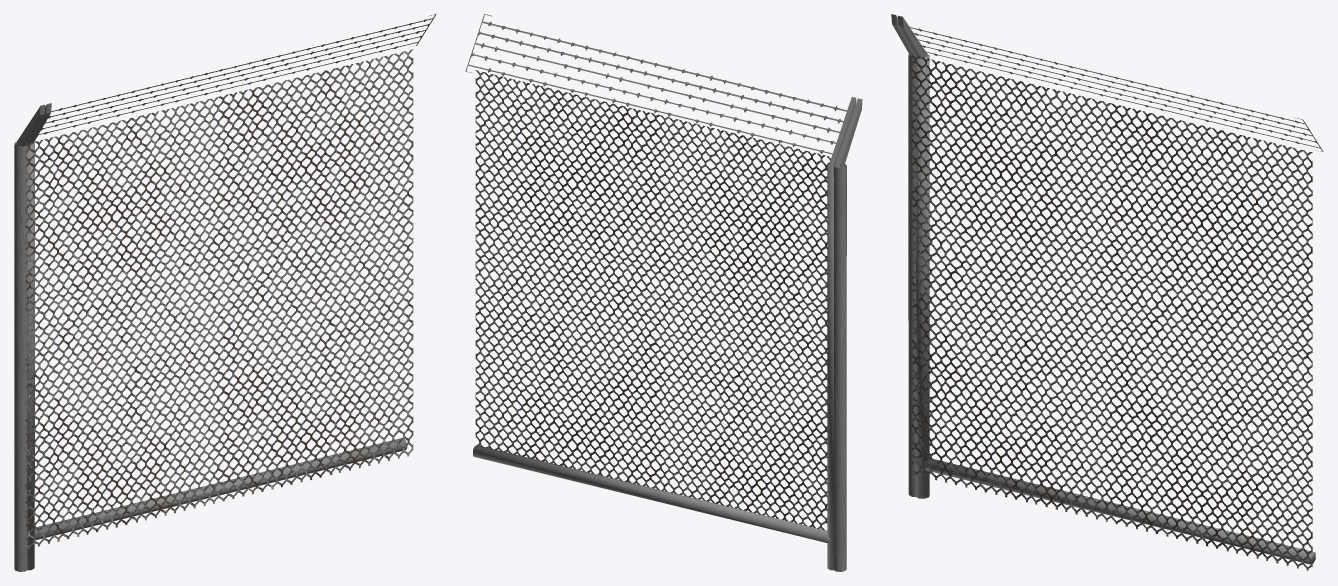
Rendered from police_fence.glb.
The picture shows the model from 3 angles, left to right: view 1: azimuth 30°, elevation 25°; view 2: azimuth 150°, elevation 25°; view 3: azimuth 330°, elevation 25°; orthographic projection. The views are drawn at different scales.
Visible parts, largest first — view 1: panel, post; view 2: panel, post; view 3: panel, post.
Boxes of the visible parts, x1,y1,x2,y2 form: panel: [25, 14, 436, 570]; post: [14, 104, 45, 571]; panel: [465, 14, 856, 570]; post: [833, 98, 862, 571]; panel: [898, 15, 1323, 570]; post: [891, 14, 916, 496].
Bounding box in the file's own units: 1.66 × 1.89 × 0.1812.
1 material, 1 textured.
